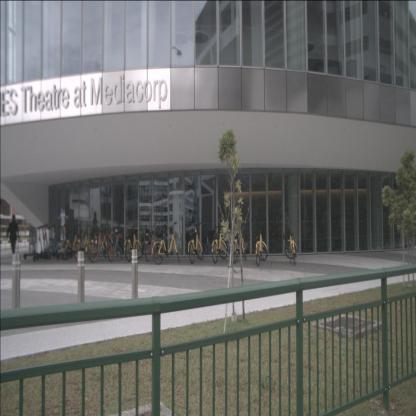human-pedestrian-adult: (7, 214, 21, 259)
